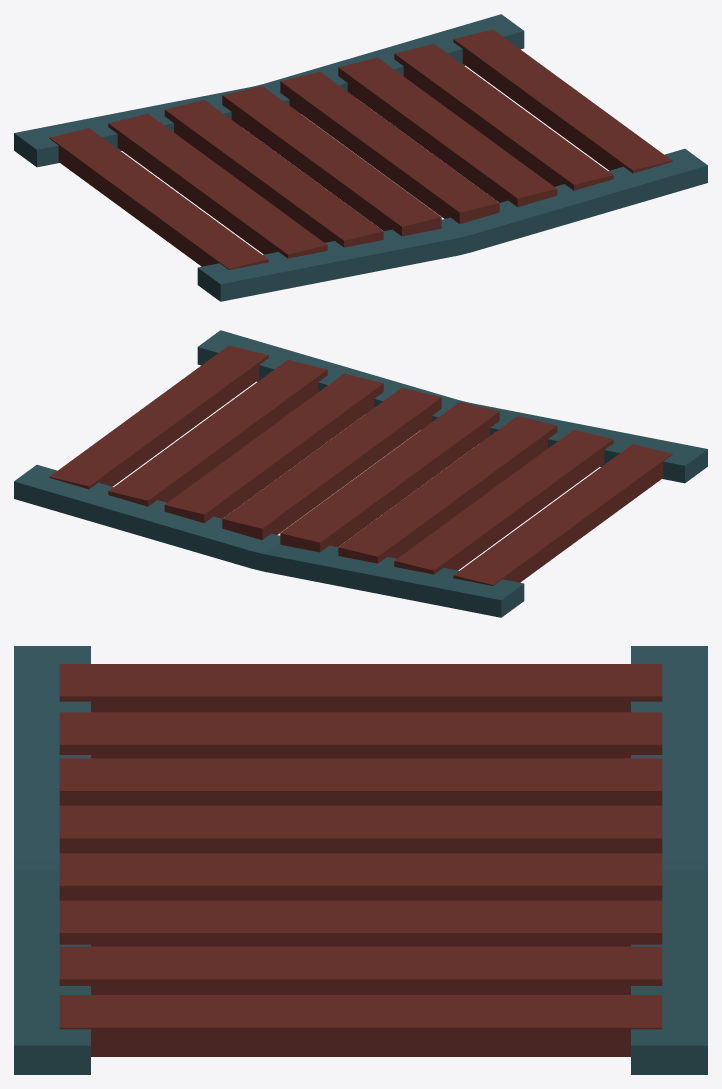
File: Brücke Lava.fbx
3 renders of one model, top to bottom at view 1: azimuth 30°, elevation 25°; view 2: azimuth 150°, elevation 25°; view 3: azimuth 270°, elevation 25°, orthographic. The views are drawn at different scales.
Parts seen in each view (by area): view 1: Cube.004; view 2: Cube.004; view 3: Cube.004.
Boxes of the visible parts, x1=… form: Cube.004: x1=14, y1=14, x2=707, y2=301; Cube.004: x1=14, y1=330, x2=707, y2=617; Cube.004: x1=14, y1=646, x2=707, y2=1074.
Bounding box in the file's own units: 613 × 35.23 × 450.
